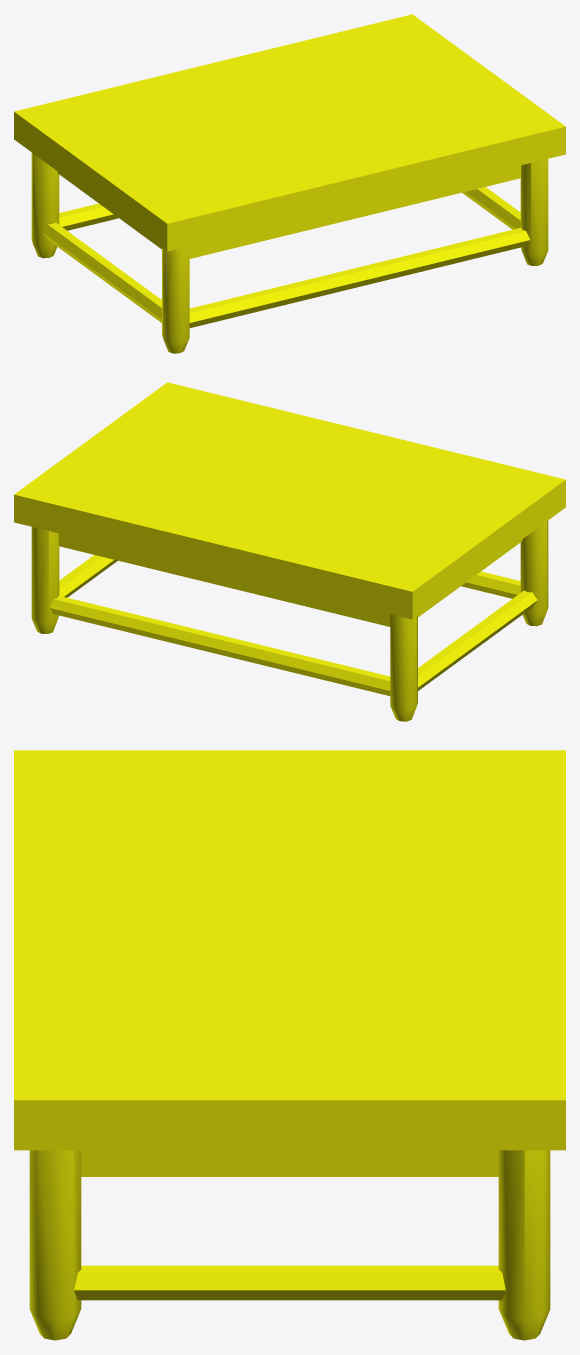
Rendered from kaykit-kitchentable-b-large.glb.
3 renders of one model, top to bottom at view 1: azimuth 30°, elevation 25°; view 2: azimuth 150°, elevation 25°; view 3: azimuth 270°, elevation 25°, orthographic. The views are drawn at different scales.
Visible parts, largest first — view 1: kitchentable_B_large; view 2: kitchentable_B_large; view 3: kitchentable_B_large.
Part boxes in pixels (x1,y1,x2,y2): kitchentable_B_large: (14, 14, 565, 353); kitchentable_B_large: (14, 382, 565, 721); kitchentable_B_large: (14, 750, 565, 1340).
Bounding box in the file's own units: 3 × 1 × 2.
